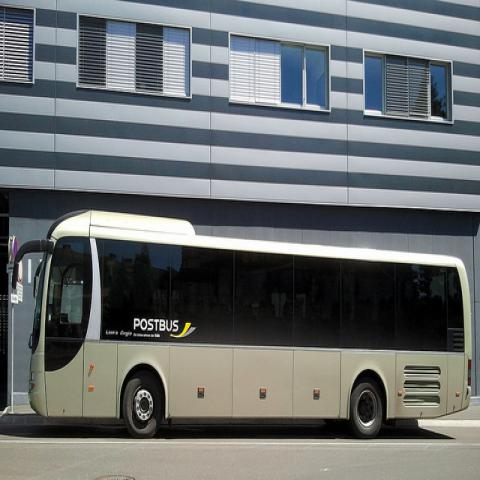bus: (10, 205, 476, 441)
